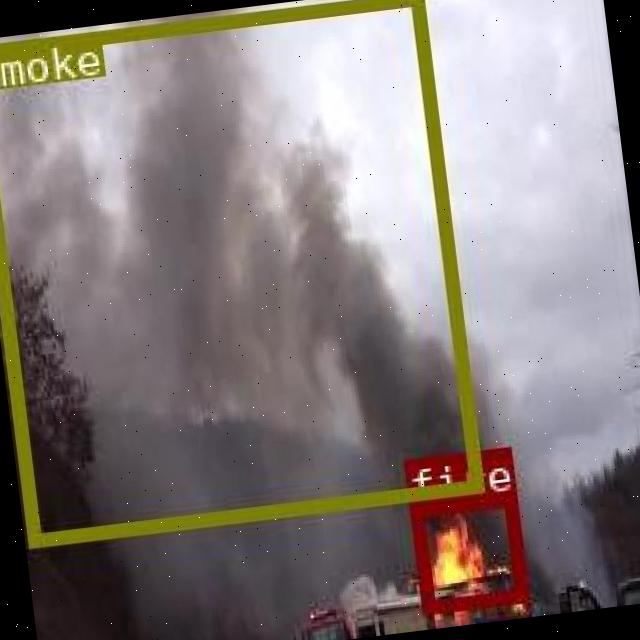fire: (410, 492, 524, 612)
smoke: (0, 0, 482, 544)
